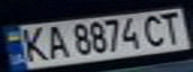4: (118, 15, 145, 51)
7: (103, 17, 124, 52)
8: (87, 18, 109, 55), (69, 20, 90, 56)
A: (42, 22, 69, 60)
C: (139, 11, 169, 47)
K: (18, 25, 51, 63)
T: (154, 9, 187, 45)
